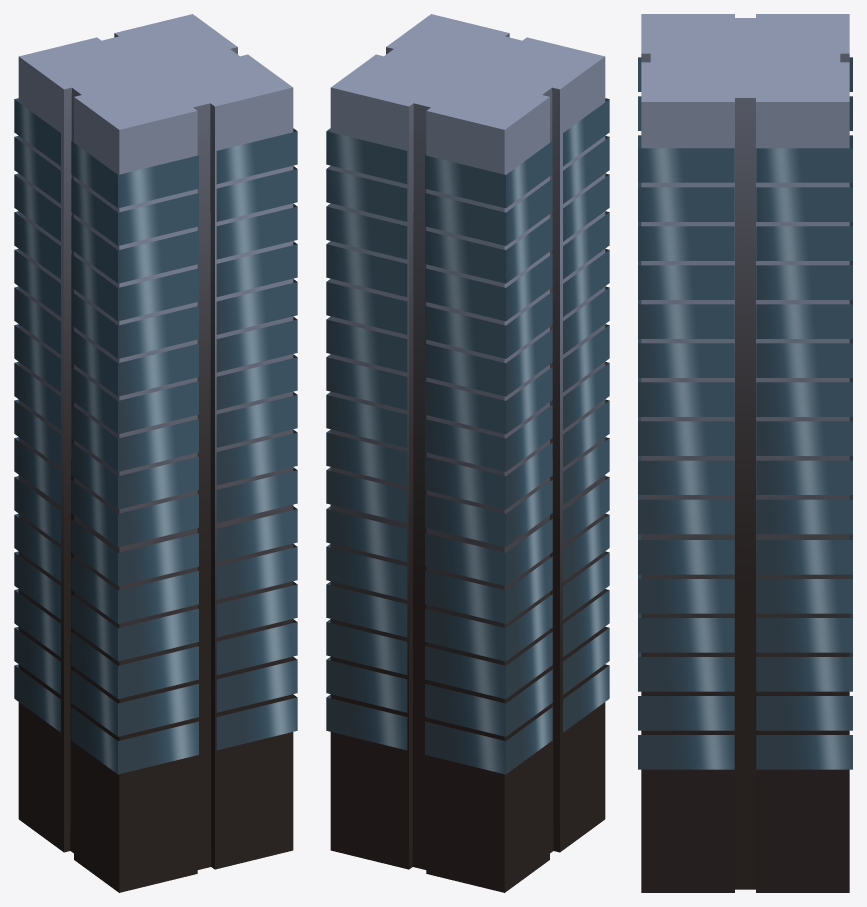
Rendered from apartmenttower1.fbx.
3 renders of one model, left to right at view 1: azimuth 30°, elevation 25°; view 2: azimuth 150°, elevation 25°; view 3: azimuth 270°, elevation 25°, orthographic. The views are drawn at different scales.
Parts seen in each view (by area): view 1: polySurface45; view 2: polySurface45; view 3: polySurface45.
Part boxes in pixels (box(x1,y1,x2,y2)): polySurface45: box(14, 14, 297, 892); polySurface45: box(326, 14, 609, 892); polySurface45: box(638, 14, 852, 892).
Size of the model in its own units: 27.46 by 112 by 27.46.
